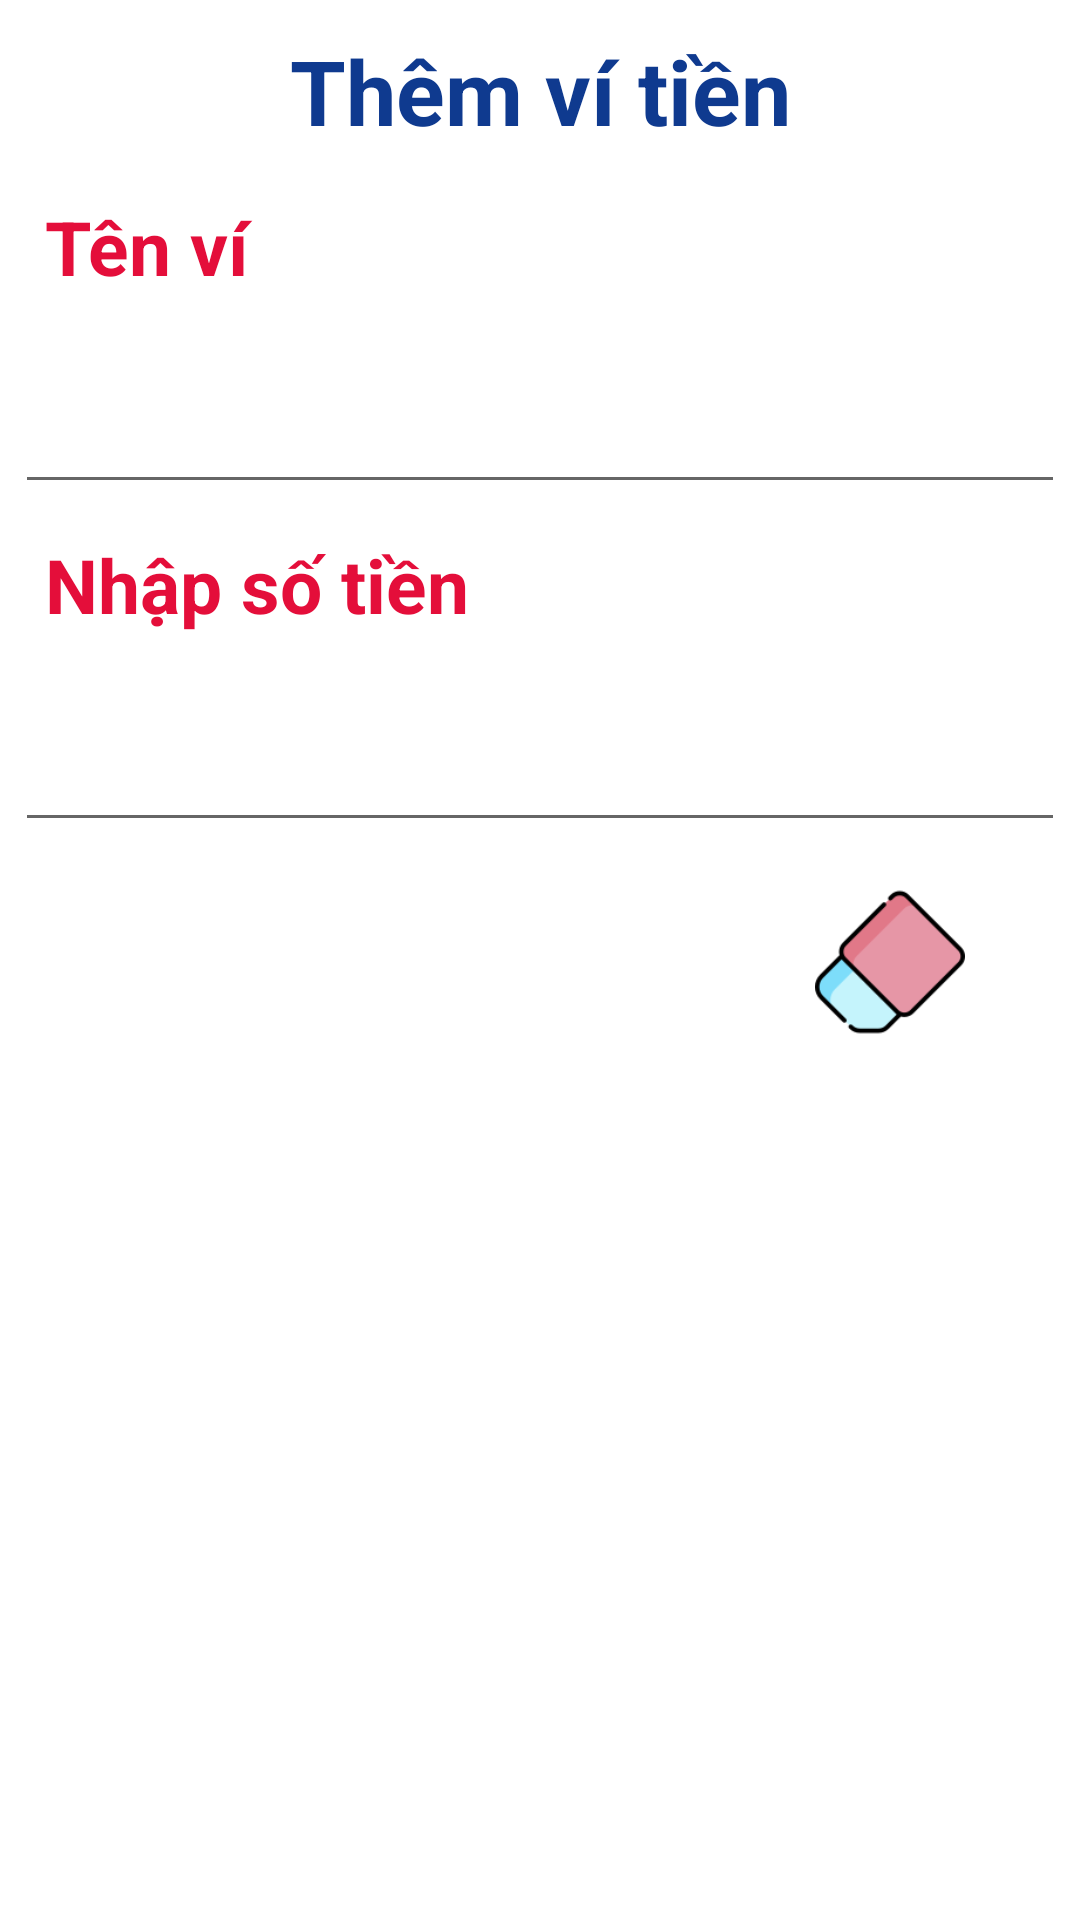

Icon click points for this 1080 × 1920 phone screenshot, format [x,y]:
eraser: [890,962]
